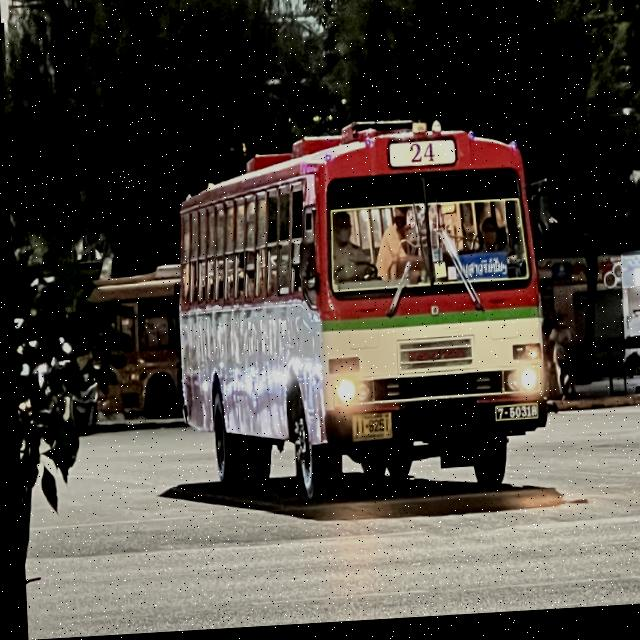BMTA-bus: (167, 118, 553, 509)
Bus-Line-Number: (406, 142, 436, 172)
Destination-Sign-Normal: (451, 258, 507, 288)
